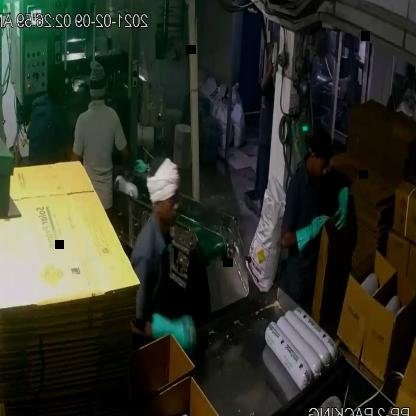glove: (145, 302, 199, 366), (292, 209, 332, 260), (335, 185, 355, 233)
